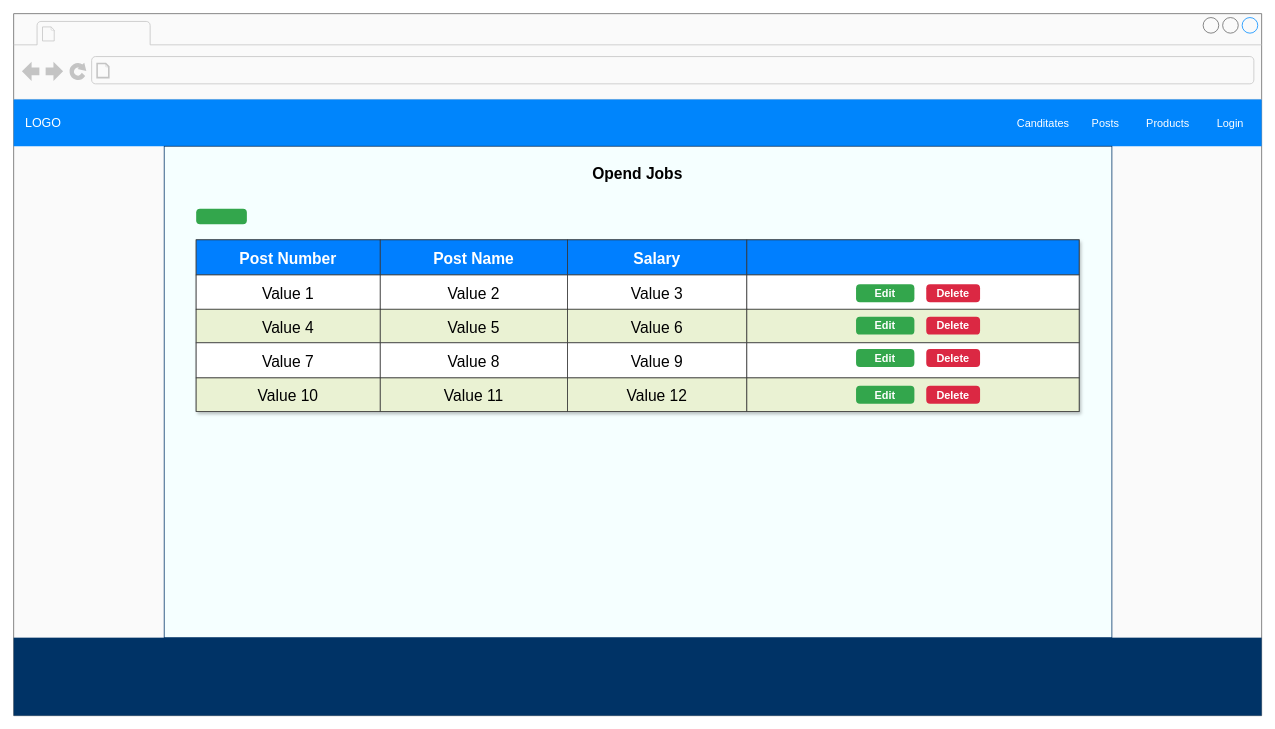
Some shapes in this 1275 by 729 pixel diagram are drawn without their labels. The shapes that lost their labels are listed below. From the top down, each one's centre as x and y in pixels, then its label:
At point 103,32: "Page 1".
At point 212,70: "https://www.draw.io".
At point 221,216: "Add".
